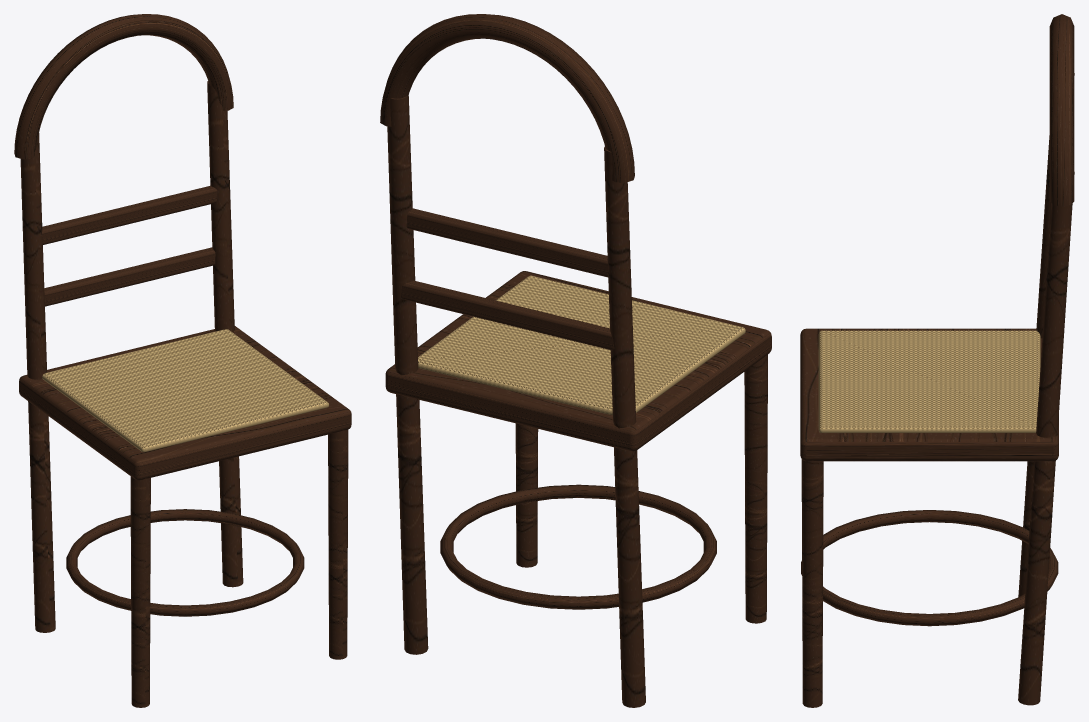
The model's file is cadeira-palhinha-torneada.glb.
The picture shows the model from 3 angles, left to right: view 1: azimuth 30°, elevation 25°; view 2: azimuth 150°, elevation 25°; view 3: azimuth 270°, elevation 25°; orthographic projection. The views are drawn at different scales.
Parts seen in each view (by area): view 1: chair; view 2: chair; view 3: chair.
Boxes of the visible parts, left/top/right/bottom form: chair: left=14, top=14, right=351, bottom=707; chair: left=380, top=14, right=771, bottom=707; chair: left=800, top=14, right=1074, bottom=707.
Size of the model in its own units: 0.44 by 1.12 by 0.4455.
2 materials, 2 textured.
